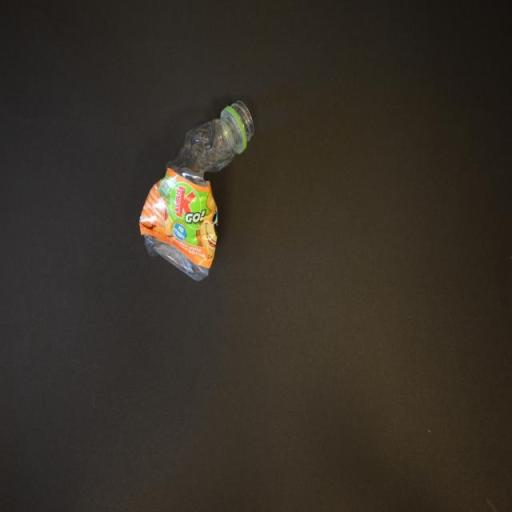plastic: (138, 100, 256, 286)
